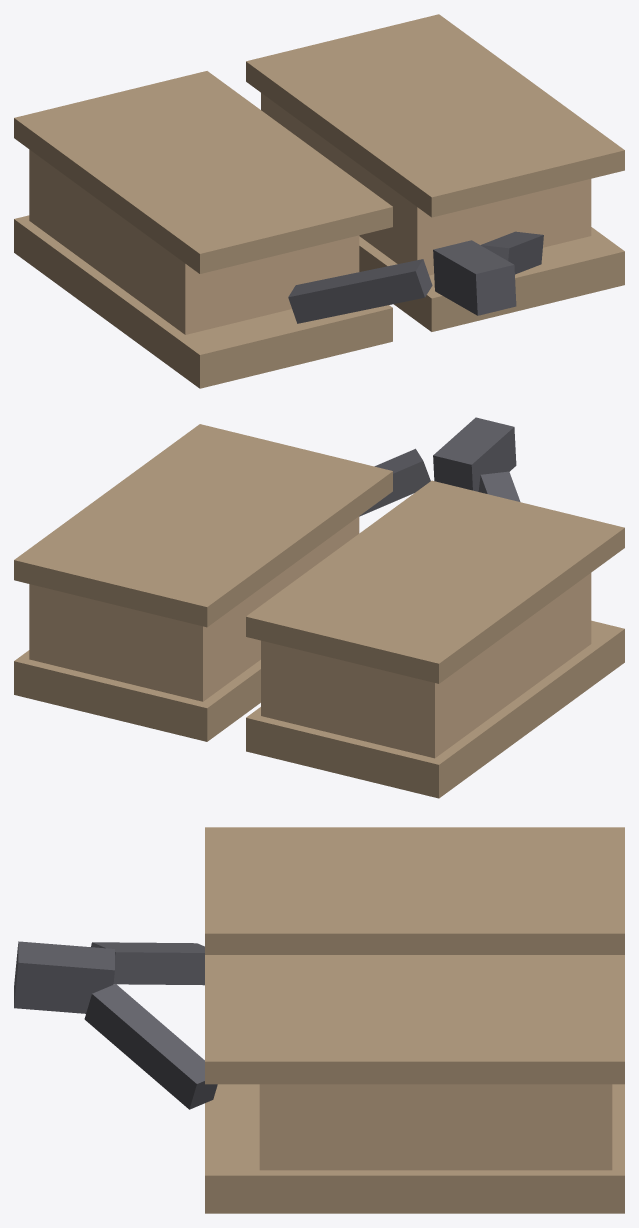
File: bloomery_bellows.glb
3 renders of one model, top to bottom at view 1: azimuth 30°, elevation 25°; view 2: azimuth 150°, elevation 25°; view 3: azimuth 270°, elevation 25°, orthographic. The views are drawn at different scales.
Parts seen in each view (by area): view 1: BloomeryBellows; view 2: BloomeryBellows; view 3: BloomeryBellows.
Part boxes in pixels (x1=…): BloomeryBellows: x1=14, y1=14, x2=624, y2=388; BloomeryBellows: x1=14, y1=417, x2=624, y2=798; BloomeryBellows: x1=14, y1=827, x2=624, y2=1213.
Bounding box in the file's own units: 1.32 × 0.4 × 1.46.
